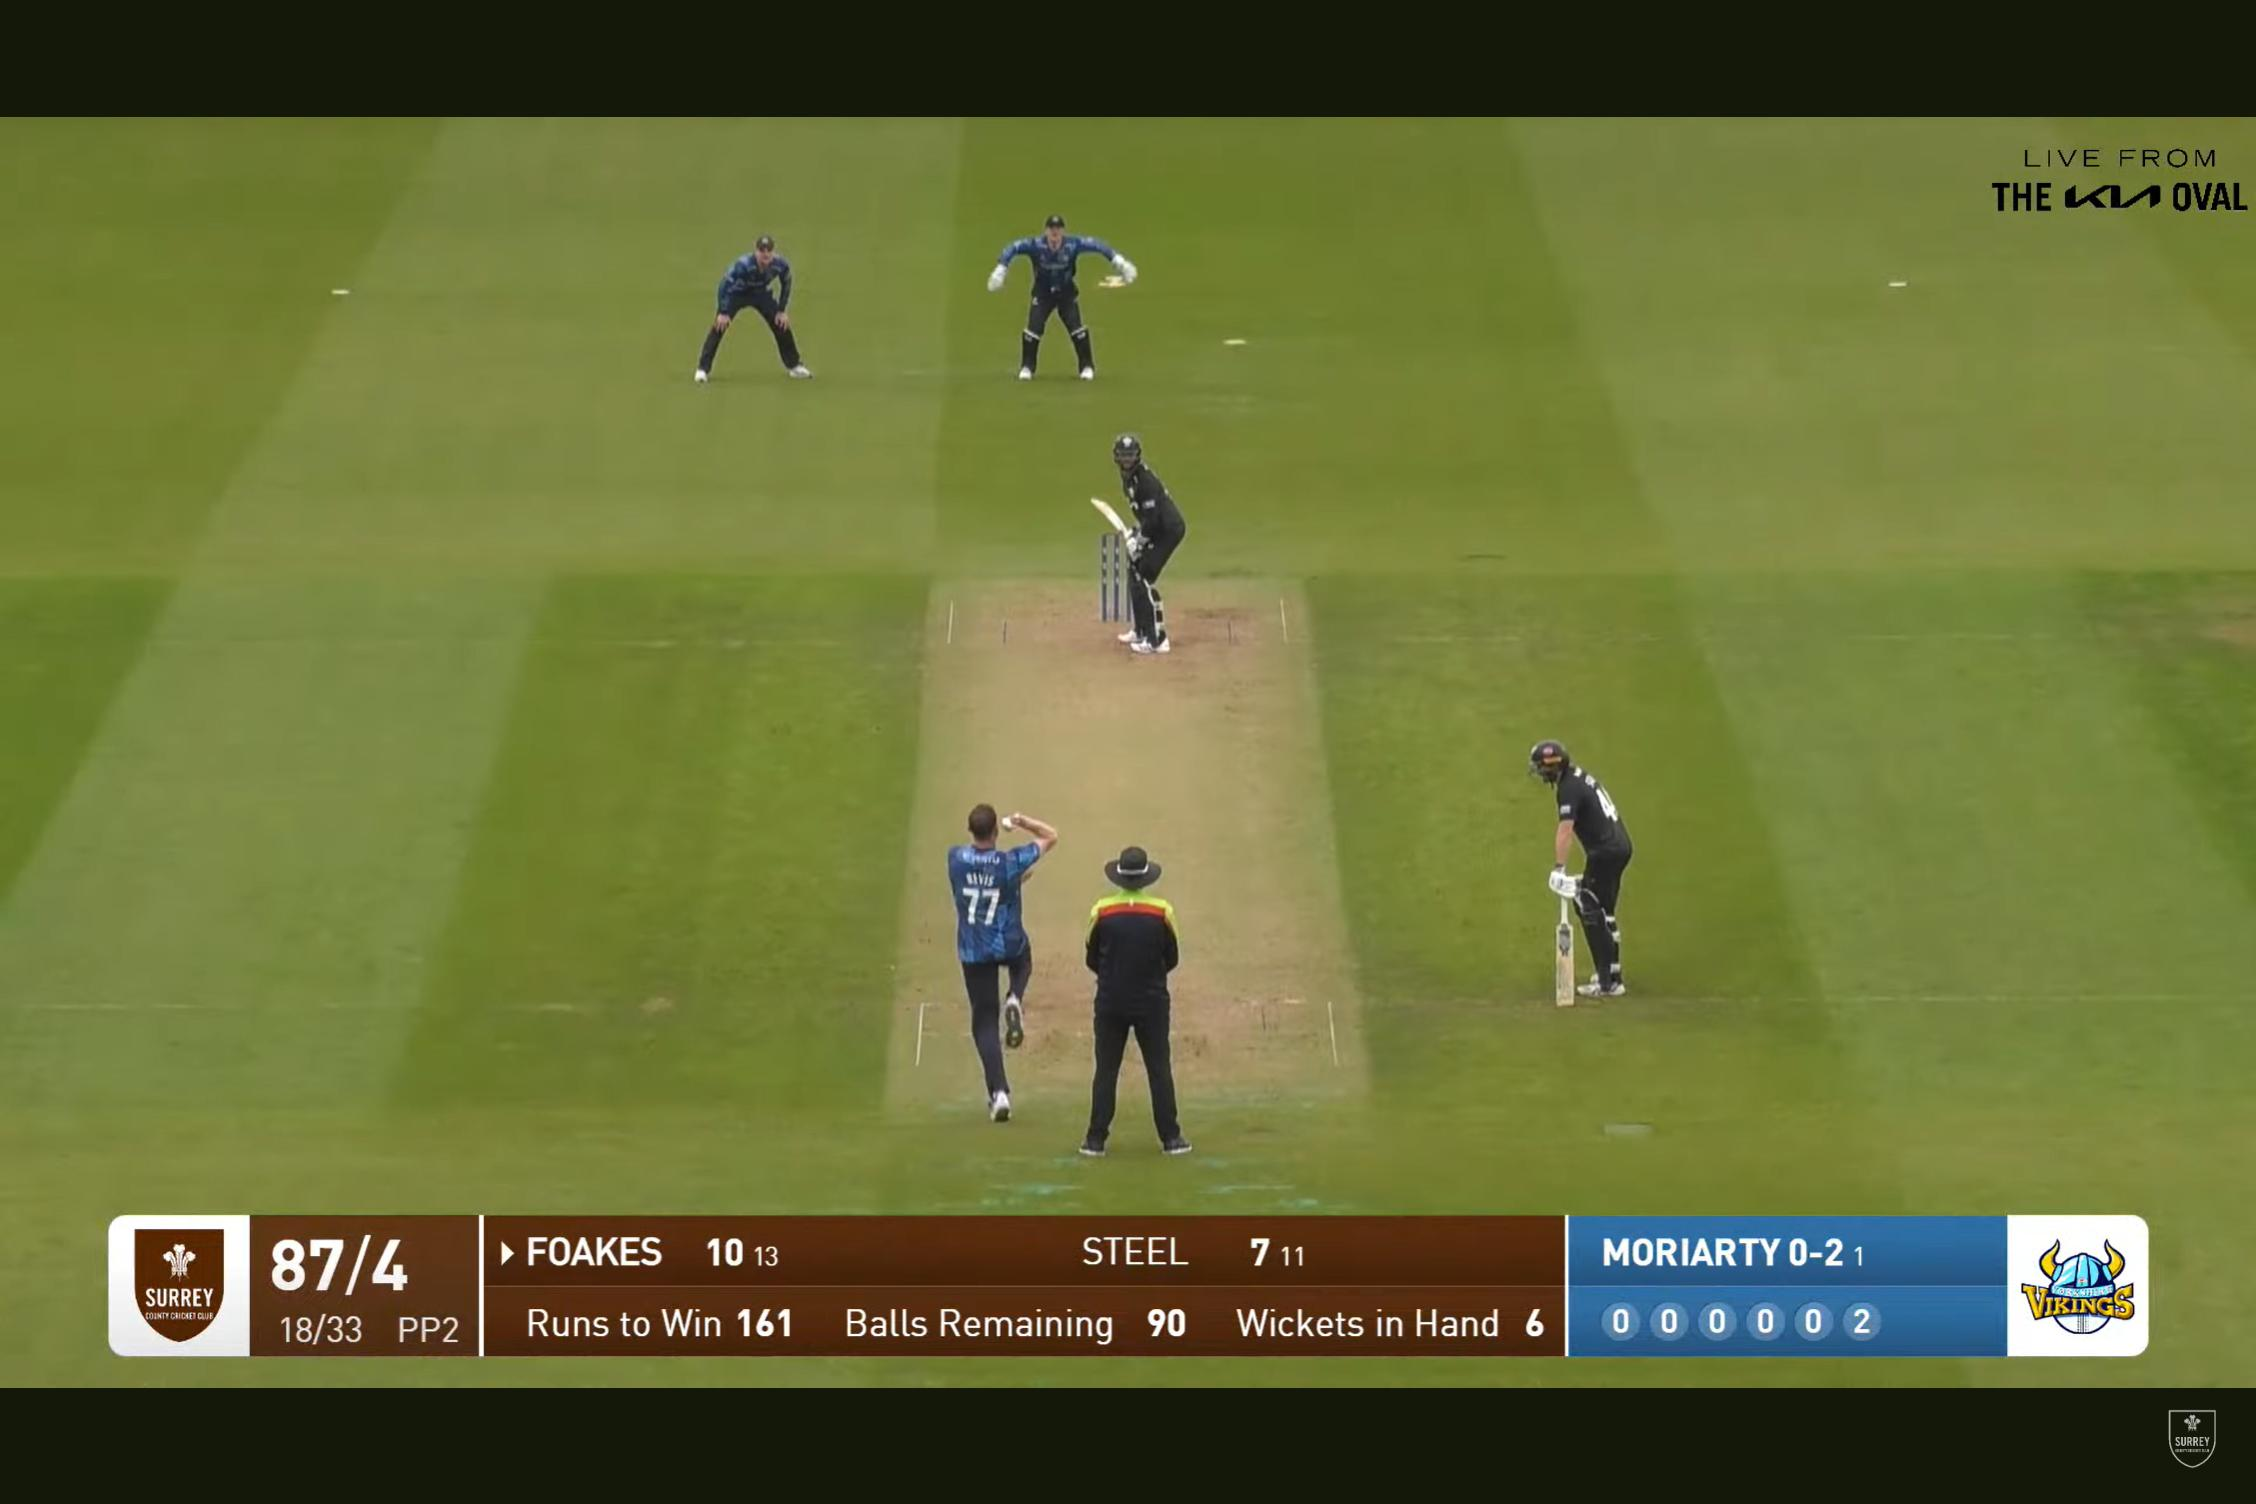batsman: (1076, 428, 1210, 663)
bowler running in: (918, 787, 1064, 1138)
non striker: (1480, 717, 1668, 1026)
umpire: (1084, 826, 1225, 1150)
wicket keeper: (955, 203, 1205, 396)
